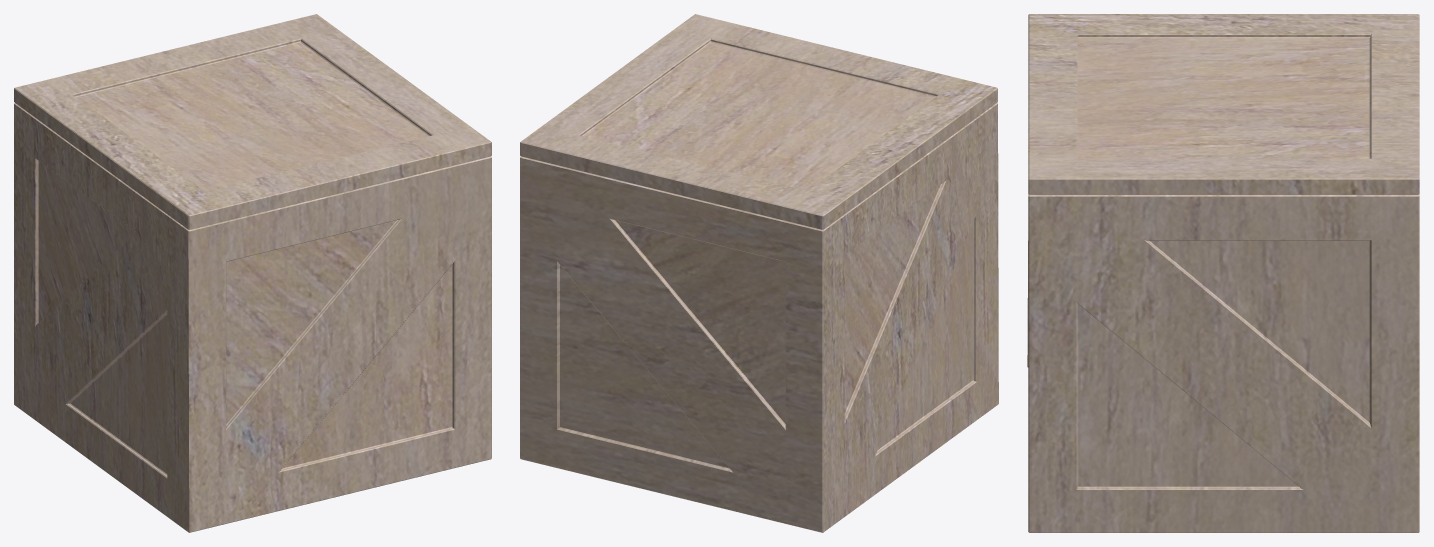
File: Crate1.fbx
3 views of the same model, side by side, from view 1: azimuth 30°, elevation 25°; view 2: azimuth 150°, elevation 25°; view 3: azimuth 270°, elevation 25° (orthographic). The views are drawn at different scales.
Visible parts, largest first — view 1: Cube; view 2: Cube; view 3: Cube.
Part boxes in pixels (x1=…): Cube: x1=14, y1=14, x2=491, y2=532; Cube: x1=520, y1=14, x2=998, y2=532; Cube: x1=1027, y1=14, x2=1419, y2=532.
Size of the model in its own units: 200 by 200 by 201.
